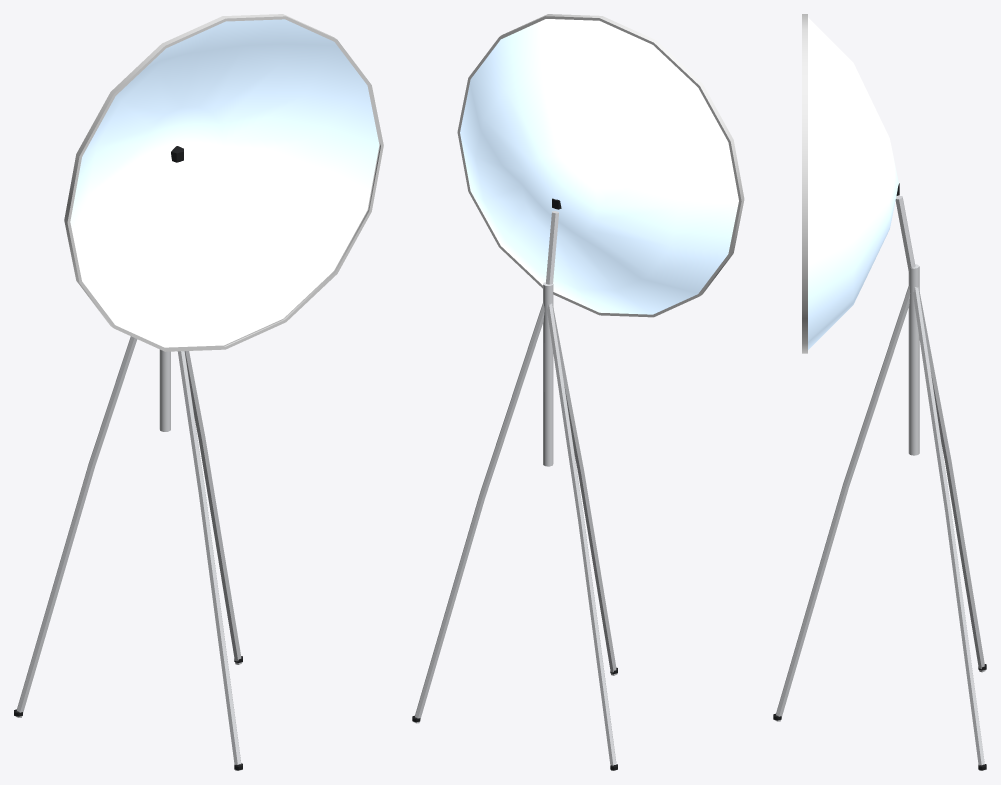
The model's file is umbrella_reflector_stand.glb.
3 views of the same model, side by side, from view 1: azimuth 30°, elevation 25°; view 2: azimuth 150°, elevation 25°; view 3: azimuth 270°, elevation 25° (orthographic). The views are drawn at different scales.
Parts seen in each view (by area): view 1: umbrella_reflector_stand; view 2: umbrella_reflector_stand; view 3: umbrella_reflector_stand.
Part boxes in pixels (x1=…): umbrella_reflector_stand: x1=14, y1=14, x2=383, y2=770; umbrella_reflector_stand: x1=412, y1=14, x2=744, y2=770; umbrella_reflector_stand: x1=773, y1=14, x2=986, y2=770.
Bounding box in the file's own units: 1.12 × 2.51 × 0.702.
